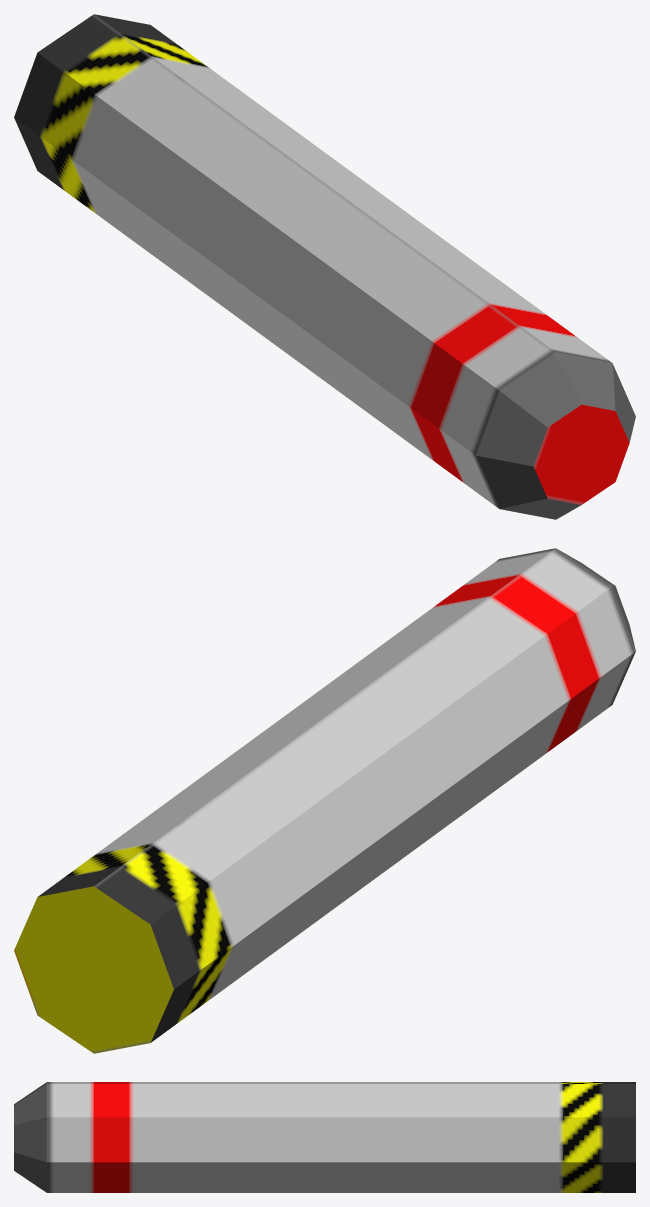
Rendered from missile_lg.obj.
3 renders of one model, top to bottom at view 1: azimuth 30°, elevation 25°; view 2: azimuth 150°, elevation 25°; view 3: azimuth 270°, elevation 25°, orthographic. The views are drawn at different scales.
Visible parts, largest first — view 1: missile_lg_Cube.008; view 2: missile_lg_Cube.008; view 3: missile_lg_Cube.008.
Part boxes in pixels (box(x1,y1,x2,y2)): missile_lg_Cube.008: box(14, 14, 635, 519); missile_lg_Cube.008: box(14, 548, 635, 1053); missile_lg_Cube.008: box(14, 1082, 635, 1192).
Bounding box in the file's own units: 0.108 × 0.108 × 0.57.
Materials: 1 (1 with a texture image).
